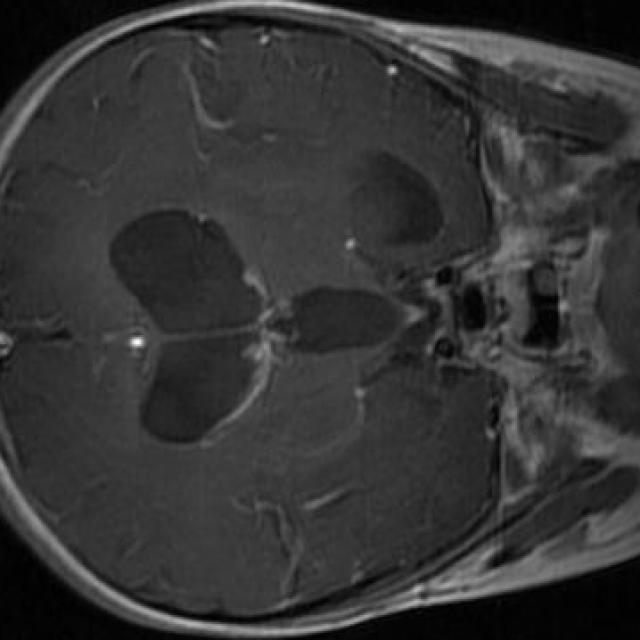glioma: (351, 152, 446, 269)
